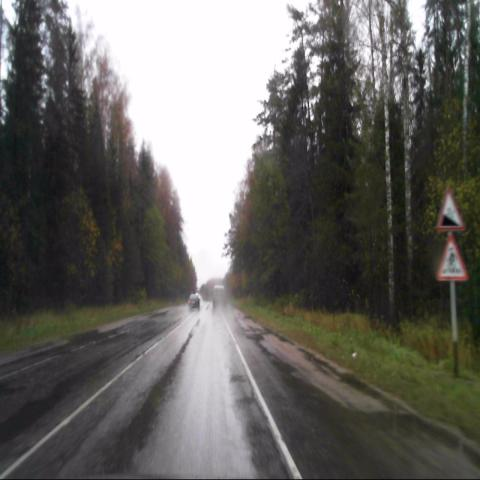1_13: (437, 186, 465, 231)
